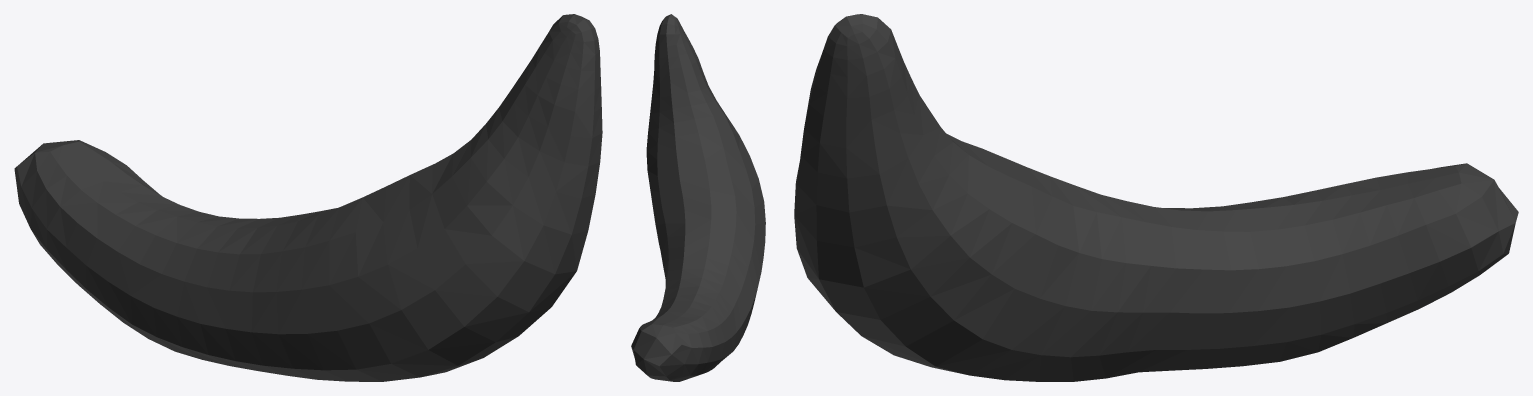
File: L_mand_canine.glb
The picture shows the model from 3 angles, left to right: view 1: azimuth 30°, elevation 25°; view 2: azimuth 150°, elevation 25°; view 3: azimuth 270°, elevation 25°; orthographic projection. The views are drawn at different scales.
Parts seen in each view (by area): view 1: L_mand_canine; view 2: L_mand_canine; view 3: L_mand_canine.
Part boxes in pixels (x1,y1,x2,y2): L_mand_canine: (14, 14, 602, 381); L_mand_canine: (631, 14, 765, 381); L_mand_canine: (794, 14, 1518, 381).
Size of the model in its own units: 0.1158 by 0.1388 by 0.198.
1 material, 1 textured.
